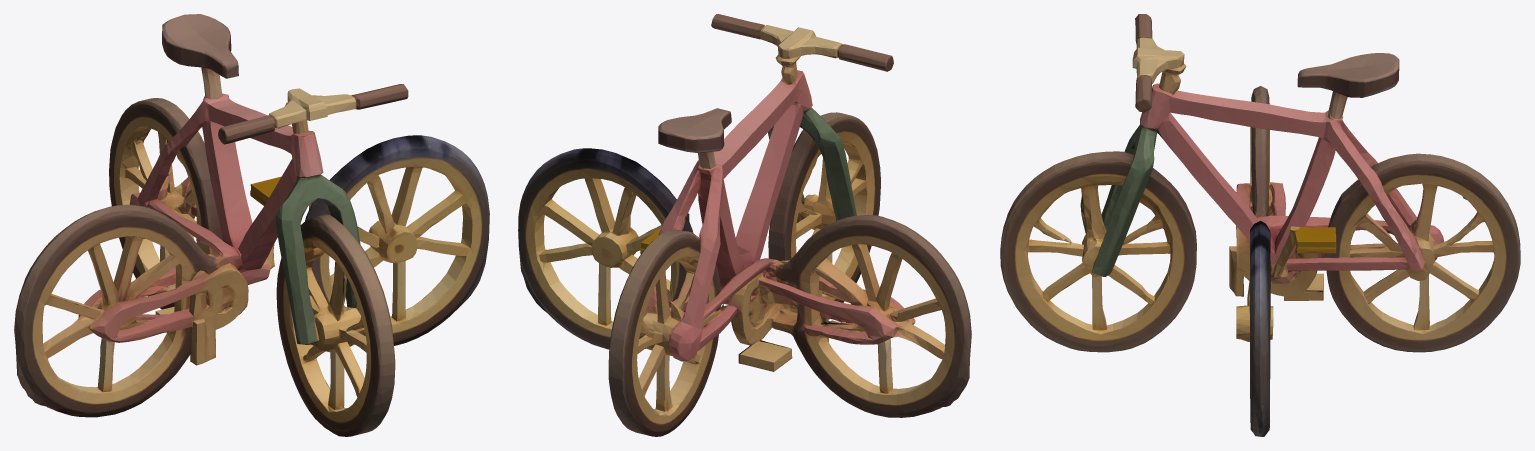
File: bicycle.glb
3 renders of one model, left to right at view 1: azimuth 30°, elevation 25°; view 2: azimuth 150°, elevation 25°; view 3: azimuth 270°, elevation 25°, orthographic. The views are drawn at different scales.
Parts seen in each view (by area): view 1: world; view 2: world; view 3: world.
Boxes of the visible parts, x1=… form: world: x1=14, y1=14, x2=489, y2=436; world: x1=518, y1=14, x2=971, y2=436; world: x1=1000, y1=14, x2=1520, y2=436.
Size of the model in its own units: 1 by 0.6512 by 0.996.
1 material, 1 textured.
